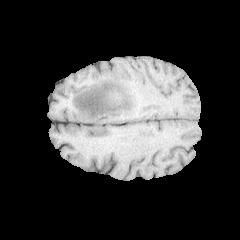glioma: (67, 69, 141, 122)
